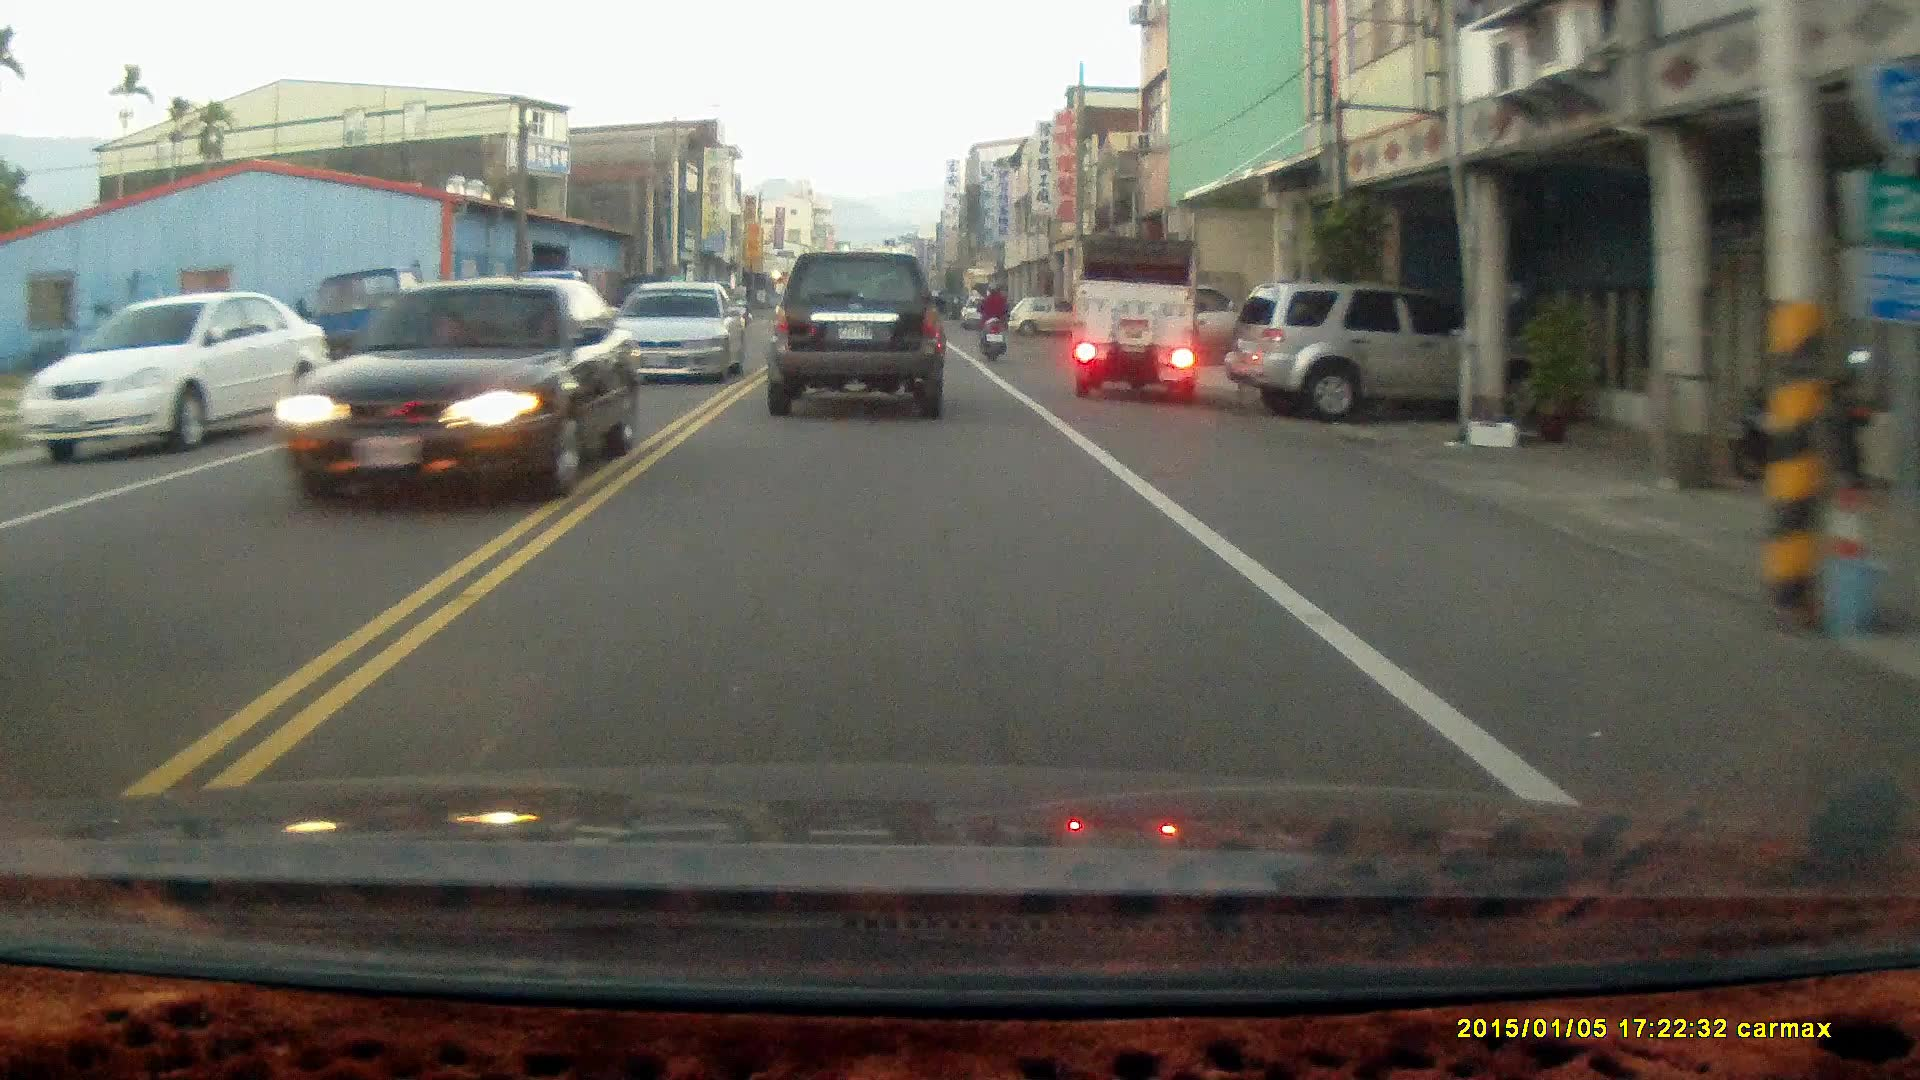rider: (974, 277, 1012, 364)
vehicle: (284, 279, 635, 508), (21, 293, 332, 463), (1229, 280, 1487, 426), (766, 258, 948, 426), (1070, 236, 1200, 399), (613, 283, 746, 387), (1008, 293, 1072, 338)
